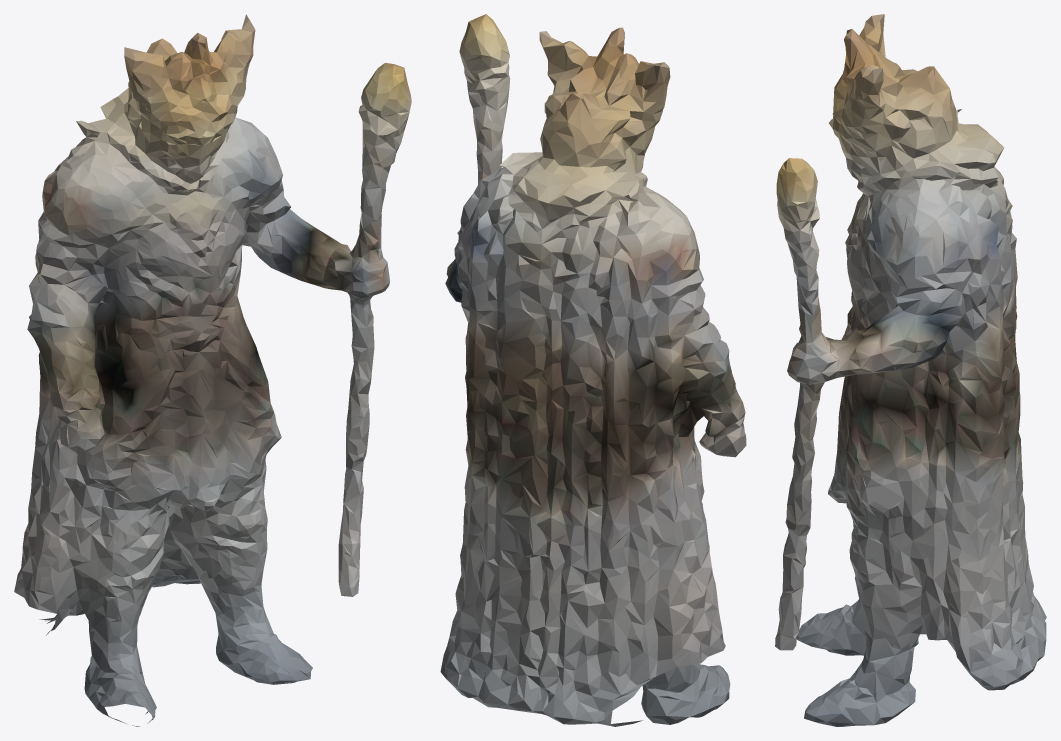
File: king.glb
The picture shows the model from 3 angles, left to right: view 1: azimuth 30°, elevation 25°; view 2: azimuth 150°, elevation 25°; view 3: azimuth 270°, elevation 25°; orthographic projection.
Visible parts, largest first — view 1: world; view 2: world; view 3: world.
Part boxes in pixels (bbox=[...]): world: bbox=[14, 14, 411, 726]; world: bbox=[440, 14, 746, 726]; world: bbox=[775, 14, 1046, 726].
Bounding box in the file's own units: 0.5115 × 1 × 0.3746.
